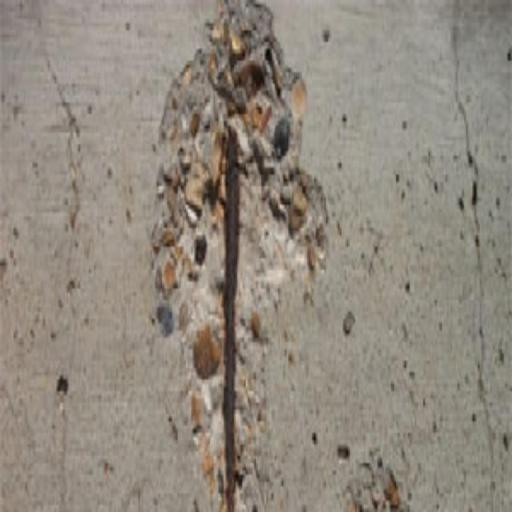spalling: (152, 0, 336, 509)
